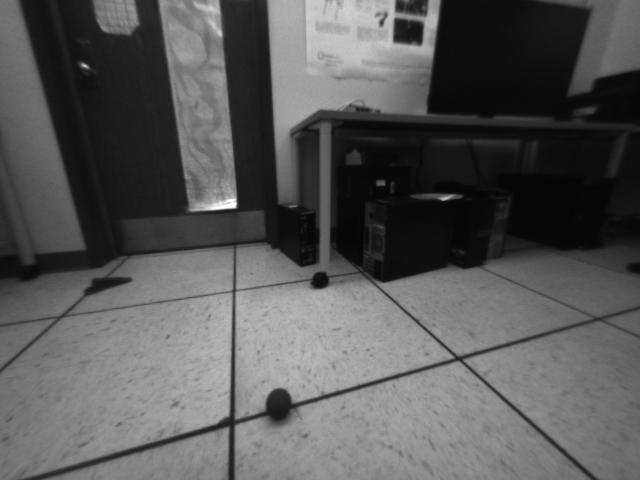dogtoy: (256, 383, 307, 427)
